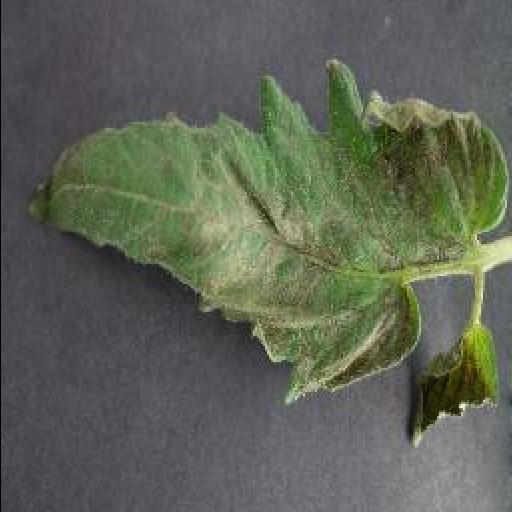disease_tomato: (24, 54, 512, 396), (400, 322, 502, 444)
